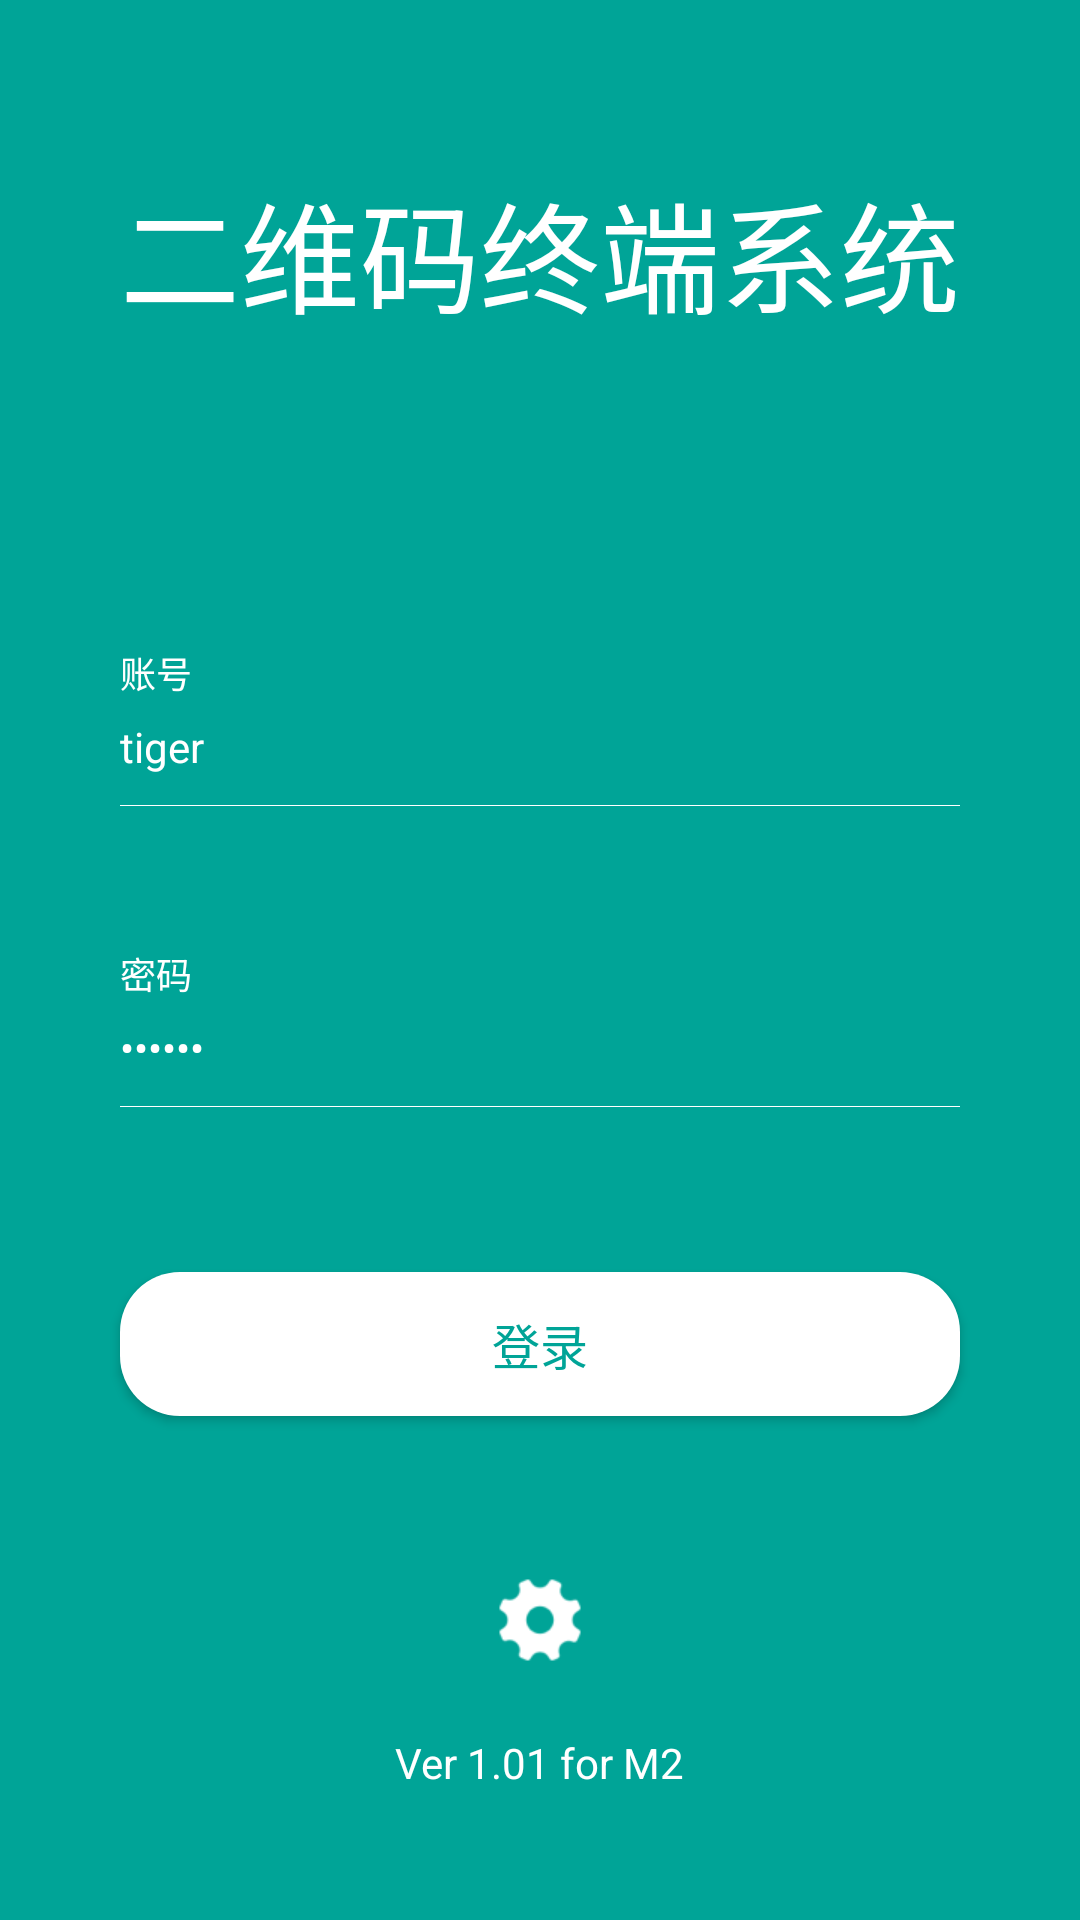

Icons on this 1080x1920 Android screen, each with the point to tap as point (x, y):
login settings: point (540, 1620)
